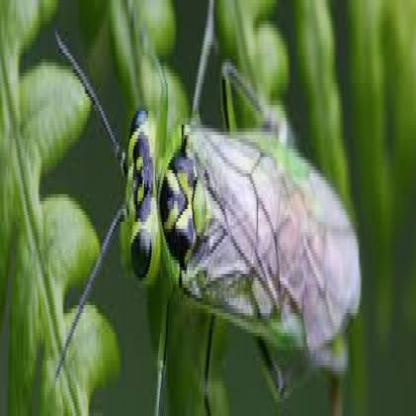sawfly: (46, 12, 364, 404)
